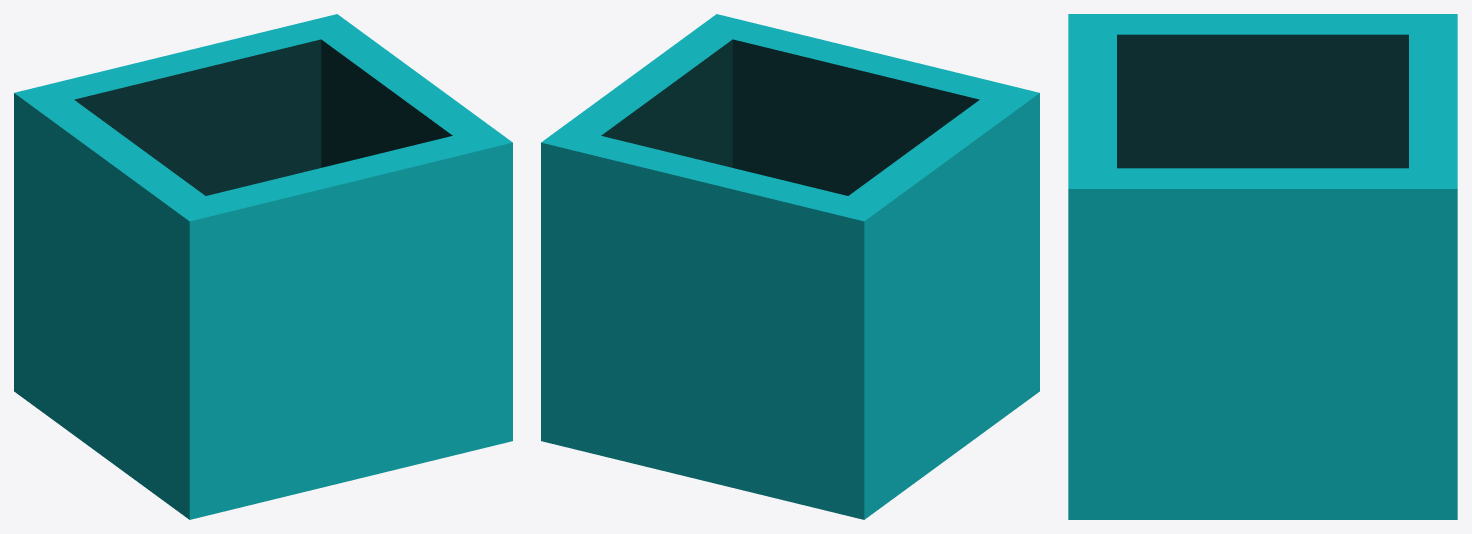
Rendered from tea_cup.gltf.
3 views of the same model, side by side, from view 1: azimuth 30°, elevation 25°; view 2: azimuth 150°, elevation 25°; view 3: azimuth 270°, elevation 25° (orthographic). The views are drawn at different scales.
Parts seen in each view (by area): view 1: cuboid; view 2: cuboid; view 3: cuboid.
Boxes of the visible parts, x1=… form: cuboid: x1=14, y1=14, x2=512, y2=519; cuboid: x1=541, y1=14, x2=1039, y2=519; cuboid: x1=1068, y1=14, x2=1457, y2=519.
Bounding box in the file's own units: 0.2125 × 0.1875 × 0.2.
1 material, 1 textured.
